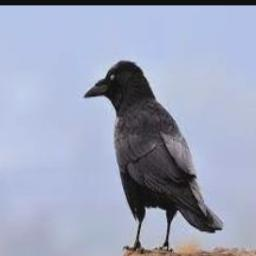Crow: (83, 59, 223, 252)
